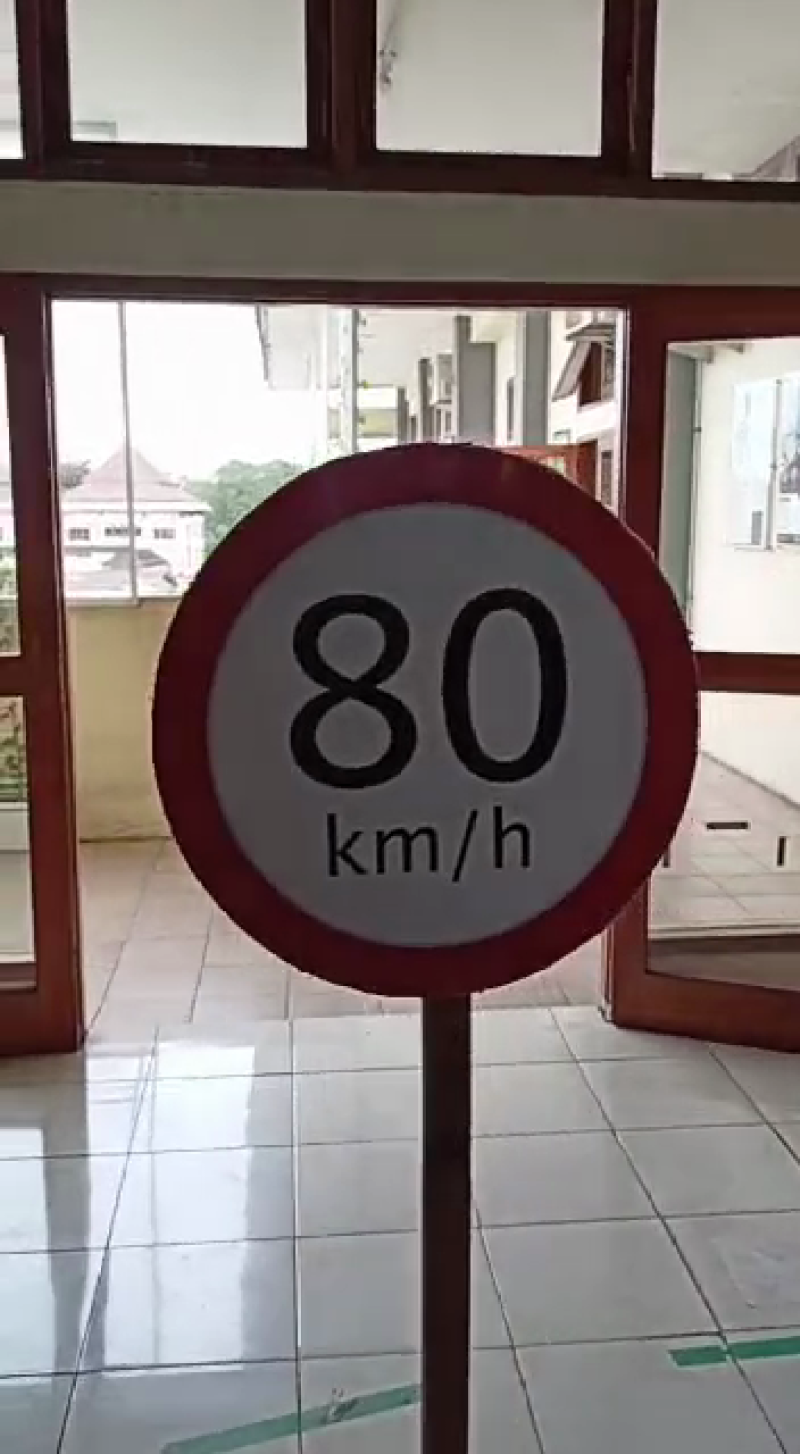batas maksimal 80kmperjam: (152, 437, 708, 1002)
